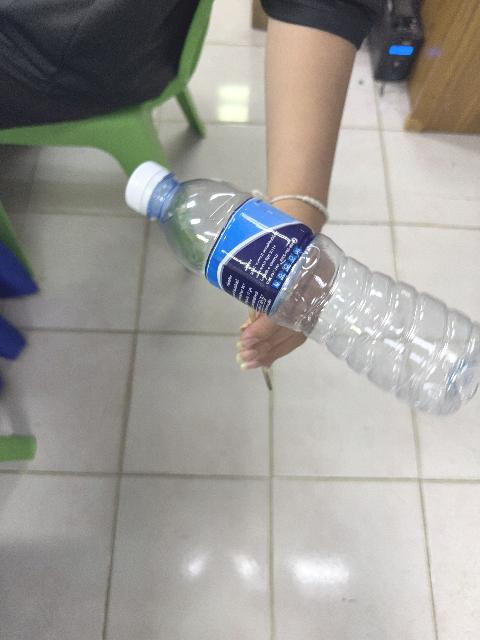bottle: (125, 162, 479, 414)
